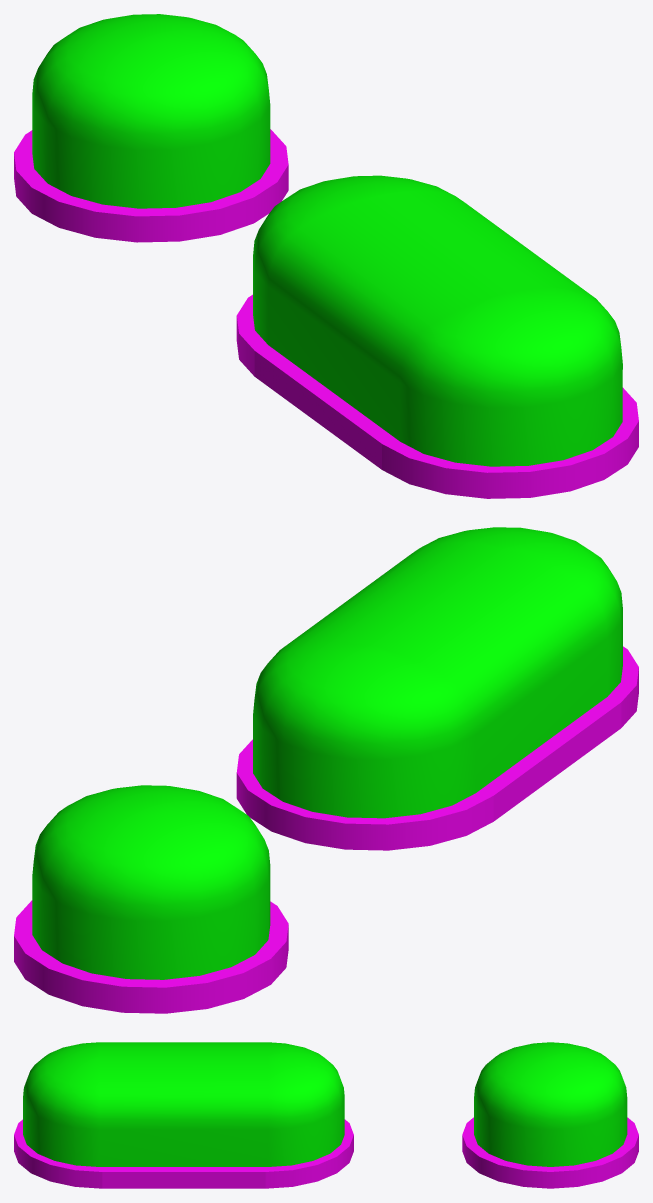
File: emergencyLights.fbx
3 renders of one model, top to bottom at view 1: azimuth 30°, elevation 25°; view 2: azimuth 150°, elevation 25°; view 3: azimuth 270°, elevation 25°, orthographic. The views are drawn at different scales.
Parts seen in each view (by area): view 1: long_emergency_light, light_covering, Base_long_emergency_light, Base_emergency_light; view 2: long_emergency_light, light_covering, Base_long_emergency_light, Base_emergency_light; view 3: long_emergency_light, light_covering, Base_long_emergency_light, Base_emergency_light.
Part boxes in pixels (x1,y1,x2,y2): long_emergency_light: [253, 175, 622, 466]; light_covering: [32, 14, 270, 208]; Base_long_emergency_light: [236, 294, 638, 498]; Base_emergency_light: [14, 129, 288, 242]; long_emergency_light: [253, 527, 622, 818]; light_covering: [32, 785, 270, 979]; Base_long_emergency_light: [236, 646, 638, 850]; Base_emergency_light: [14, 900, 288, 1013]; long_emergency_light: [23, 1042, 344, 1166]; light_covering: [474, 1042, 627, 1166]; Base_long_emergency_light: [14, 1119, 353, 1188]; Base_emergency_light: [462, 1117, 638, 1188].
Size of the model in its own units: 5.65 by 3.36 by 19.99.
